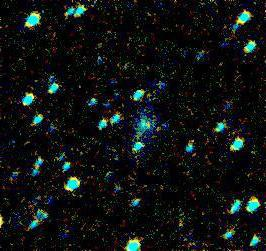star: (137, 112, 167, 142)
